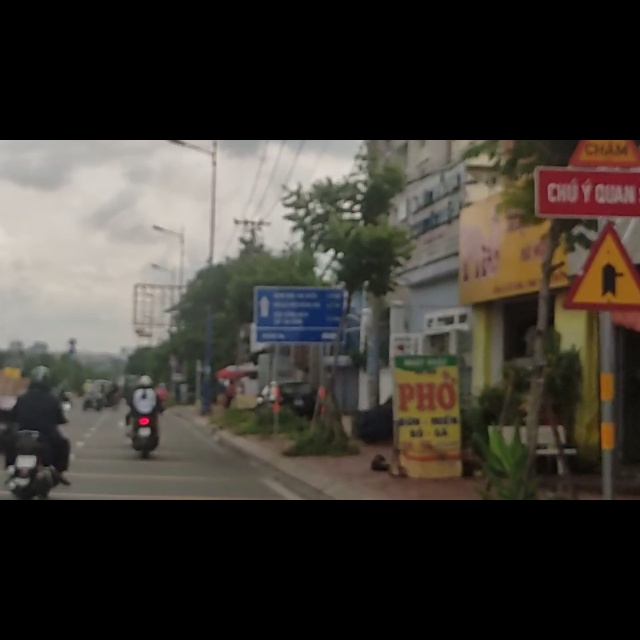bien_nguy_hiem: (561, 152, 640, 309)
